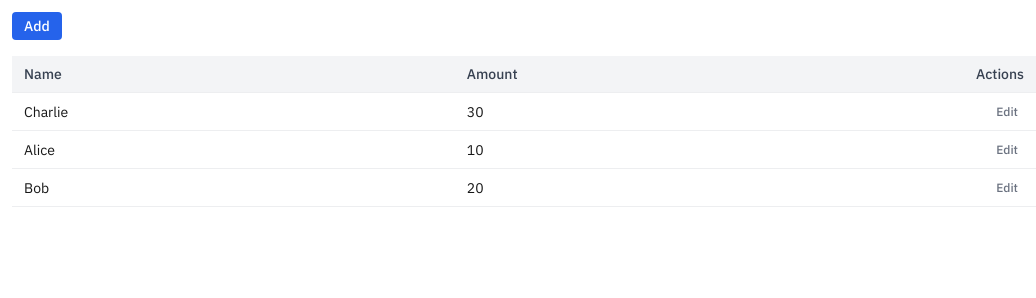
Test: DataTable › opens the inline form pre-populated with the row when Edit is clicked
The image size is (1036, 298).
Click the button "Edit" in the row of "Alice". click: coordinates (1007, 150)
box: [990,140,1024,160]
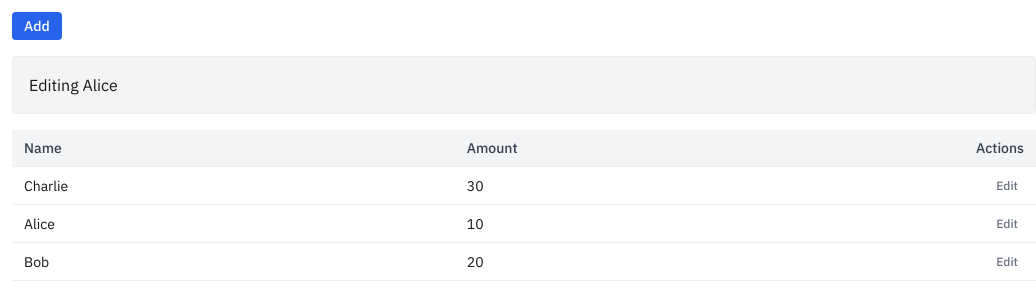
Check: the text "Editing Alice" is shown, box [29,75,118,95]
